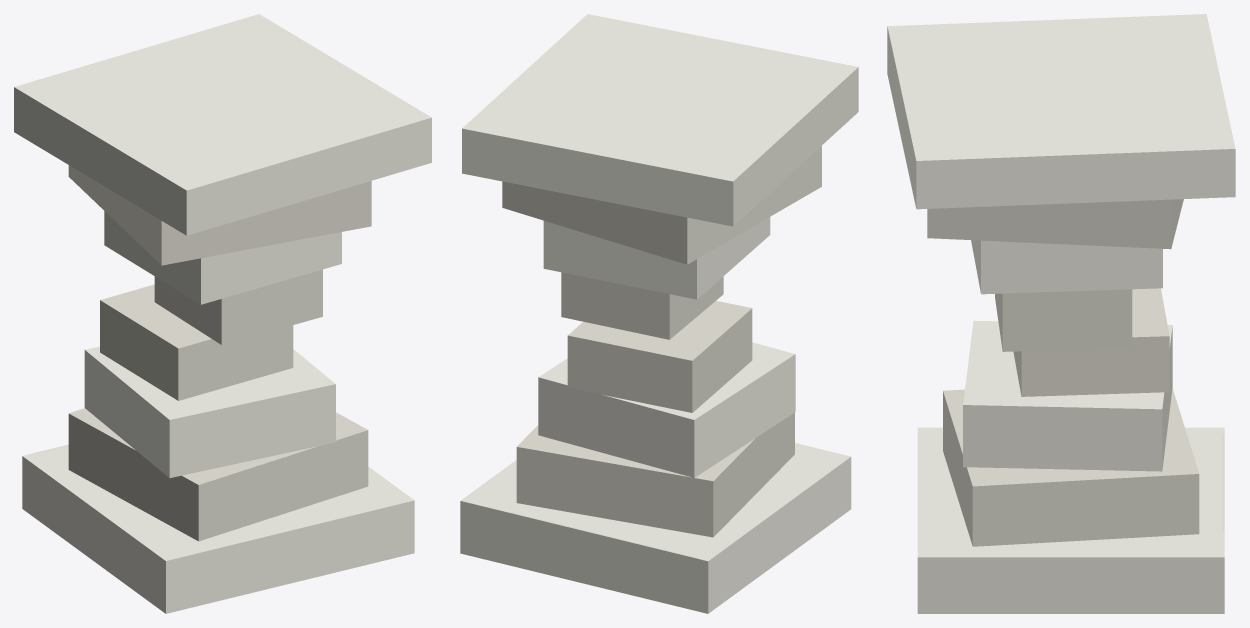
The model's file is pillarSlabs4.glb.
The picture shows the model from 3 angles, left to right: view 1: azimuth 30°, elevation 25°; view 2: azimuth 150°, elevation 25°; view 3: azimuth 270°, elevation 25°; orthographic projection. The views are drawn at different scales.
Visible parts, largest first — view 1: pillarSlabs4; view 2: pillarSlabs4; view 3: pillarSlabs4.
Part boxes in pixels (left/top/right/bottom): pillarSlabs4: left=14, top=14, right=431, bottom=613; pillarSlabs4: left=460, top=14, right=858, bottom=613; pillarSlabs4: left=887, top=14, right=1235, bottom=613.
Bounding box in the file's own units: 0.6092 × 0.8914 × 0.6092.
1 material, 1 textured.
